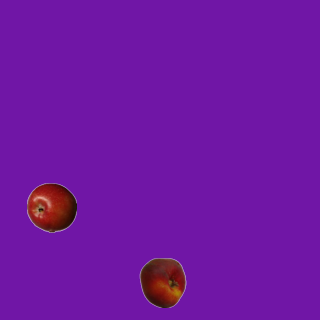Apple Braeburn: (26, 182, 76, 232)
Nectarine Flat: (137, 257, 187, 307)
